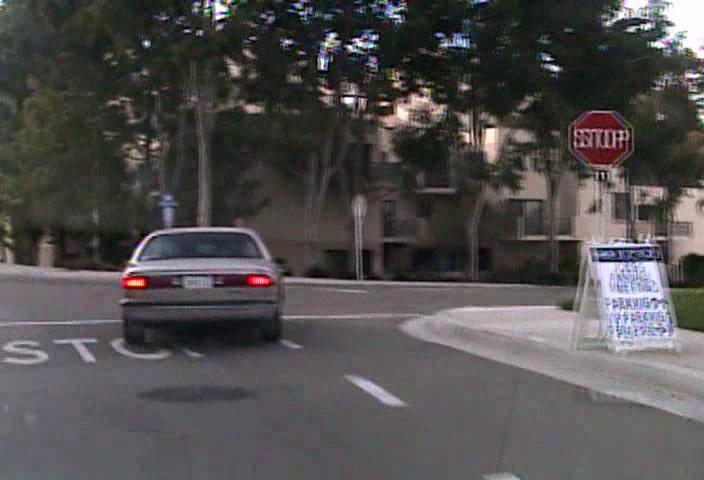stop: (568, 110, 634, 168)
